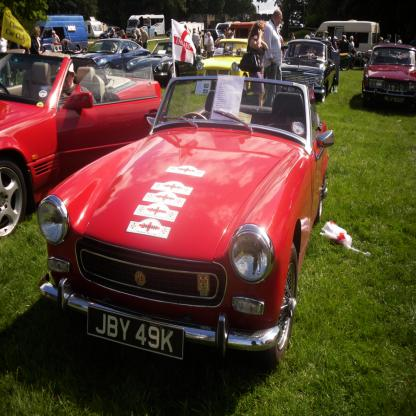Car: (0, 26, 416, 369)
